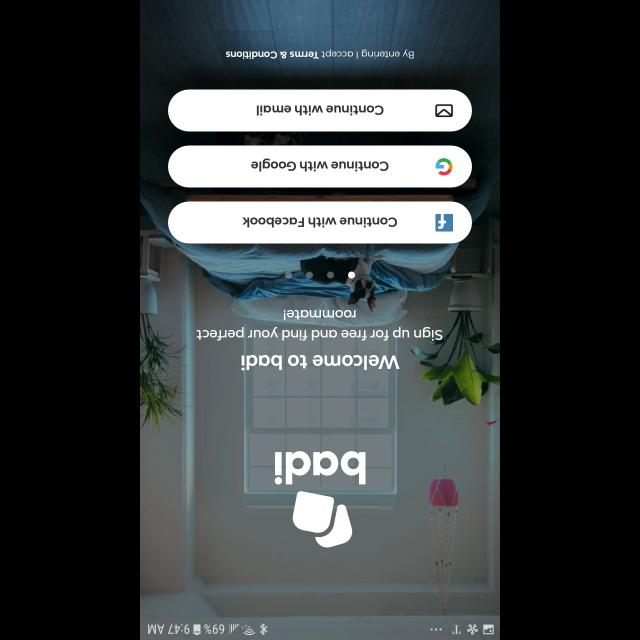backgroundimage: (140, 1, 500, 616)
image: (292, 490, 352, 548)
pageindicator: (284, 271, 356, 279)
text: (196, 309, 442, 341), (274, 450, 366, 486), (240, 355, 400, 371), (226, 49, 414, 59)
textbutton: (168, 200, 472, 243), (168, 145, 472, 187), (168, 89, 472, 131)
uppertaskbar: (140, 615, 500, 639)
